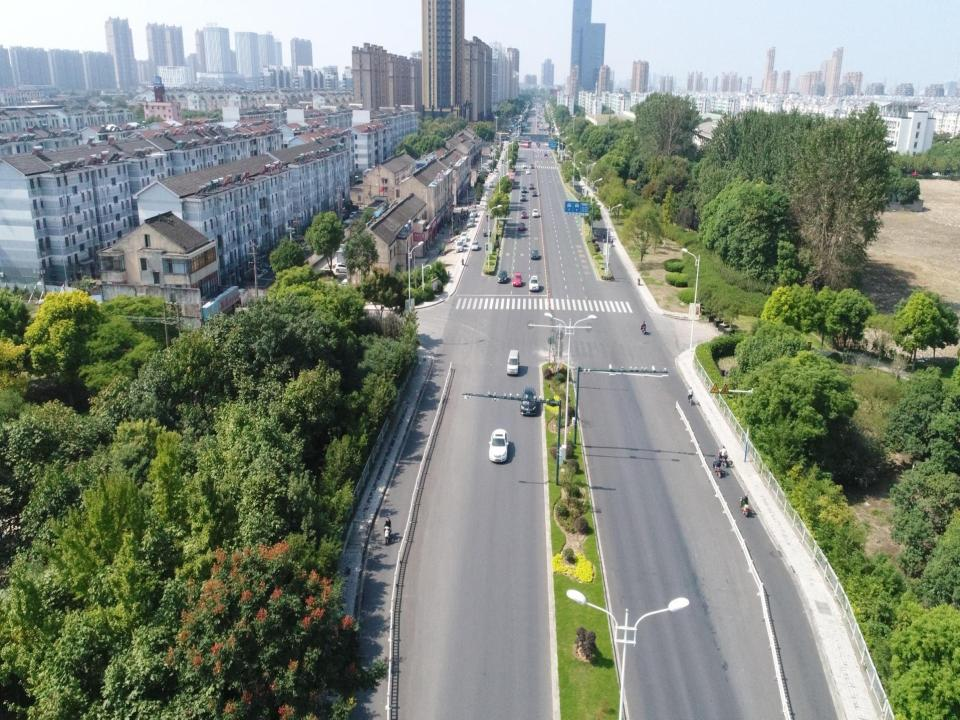bus: (518, 136, 532, 148), (507, 170, 516, 187), (496, 132, 510, 140)
car: (489, 423, 509, 463), (522, 388, 537, 416), (506, 347, 519, 376), (512, 270, 522, 286), (454, 238, 464, 254), (529, 274, 540, 288), (498, 268, 508, 283), (464, 216, 474, 229), (518, 219, 525, 233), (532, 247, 540, 259), (471, 240, 478, 249), (470, 209, 478, 216), (529, 162, 536, 169), (533, 208, 539, 216), (522, 209, 527, 218), (479, 169, 488, 174), (529, 182, 535, 189), (521, 192, 526, 199), (532, 190, 537, 197), (479, 172, 486, 177), (521, 182, 525, 190), (526, 168, 529, 175), (521, 164, 527, 167)
van: (480, 162, 491, 170), (489, 180, 493, 187)
